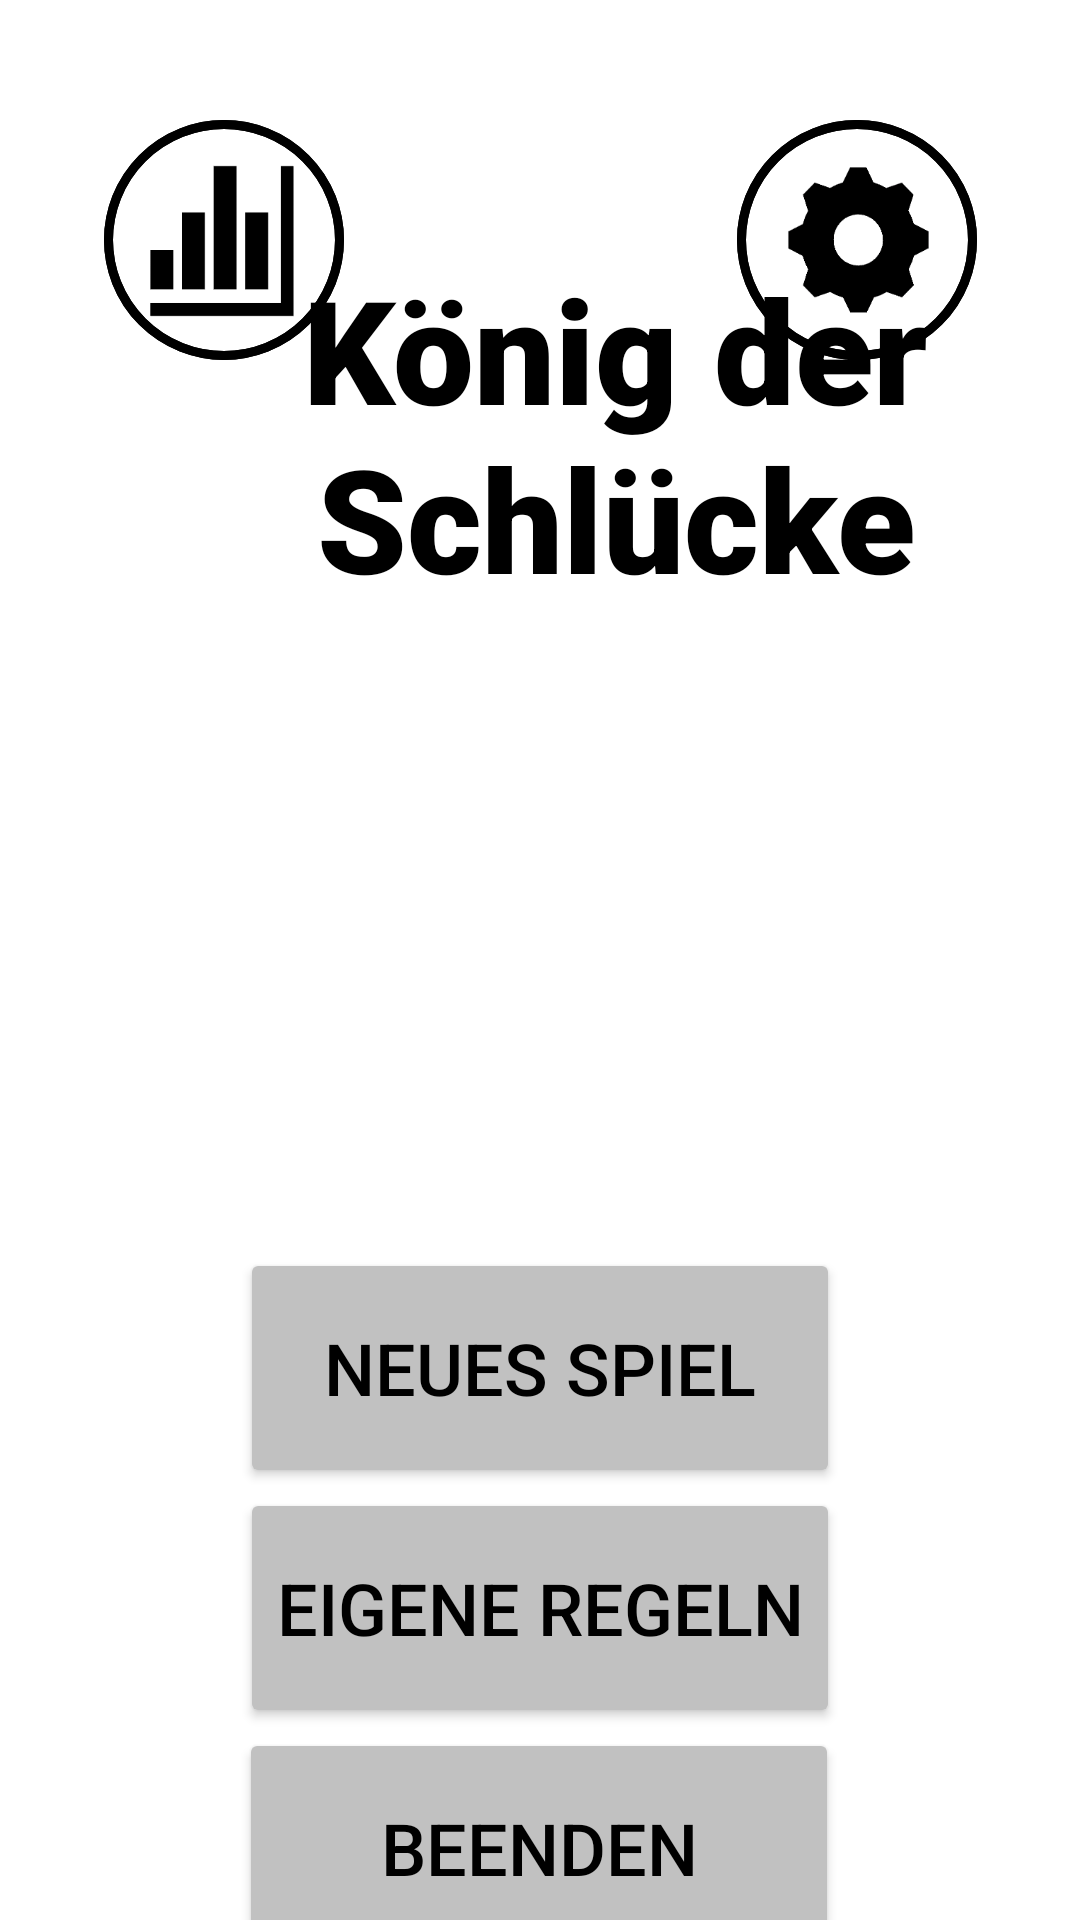

Screen size 1080px×1920px. Icon name, then its center in pixels as point (x, y):
Einstellungen öffnen: point (858, 240)
Statistik öffnen: point (222, 241)
